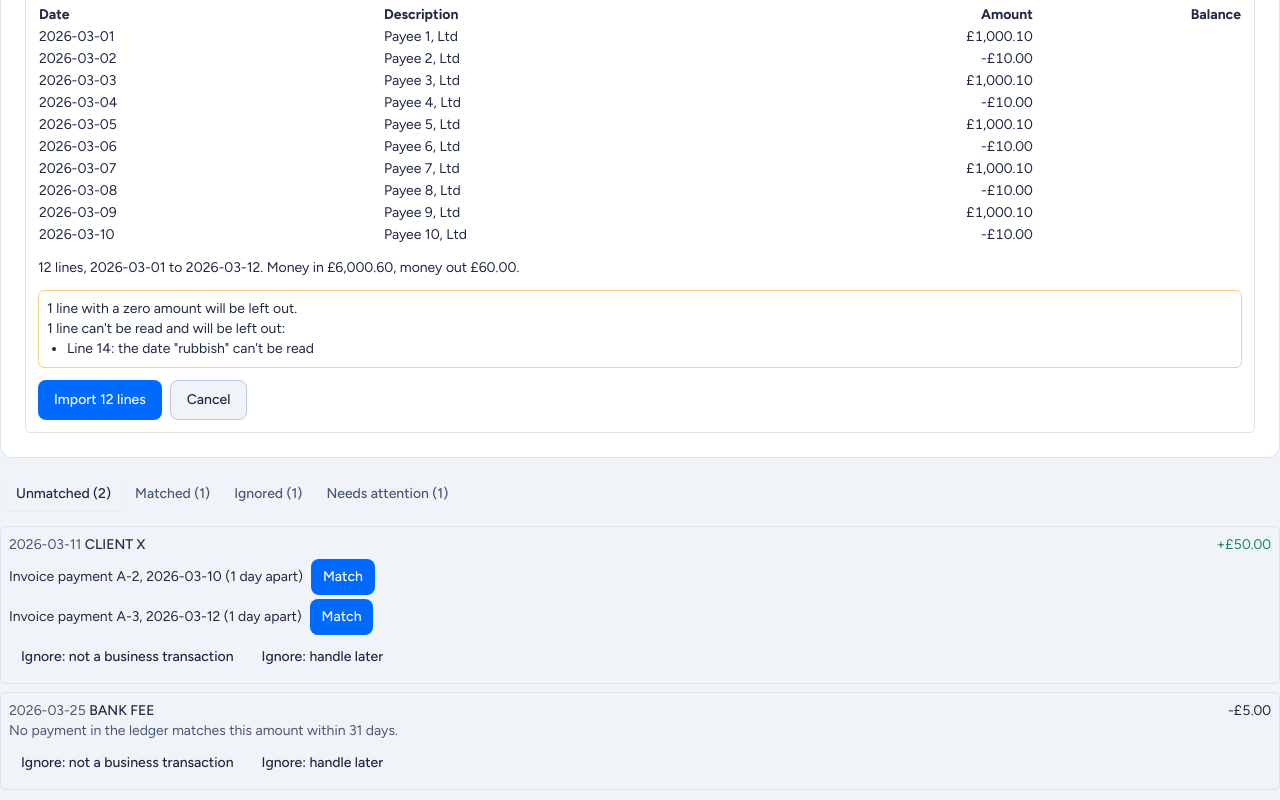
Test case: Bank: import a statement › auto-detects the columns, previews 10 rows with totals and warnings, imports and reports the counts
Earlier steps of the test are not shown.
(page scrolled)
Expected: the table with test id "bank-preview" shows "Payee 1, Ltd", [384,28,458,45]
Expected: the text with test id "bank-totals" reads "12 lines, 2026-03-01 to 2026-03-12. Money in £6,000.60, money out £60.00.", [38,259,519,276]
Click the button "Import 12 lines".
click(100, 400)  # box [38,380,162,420]
(page scrolled)
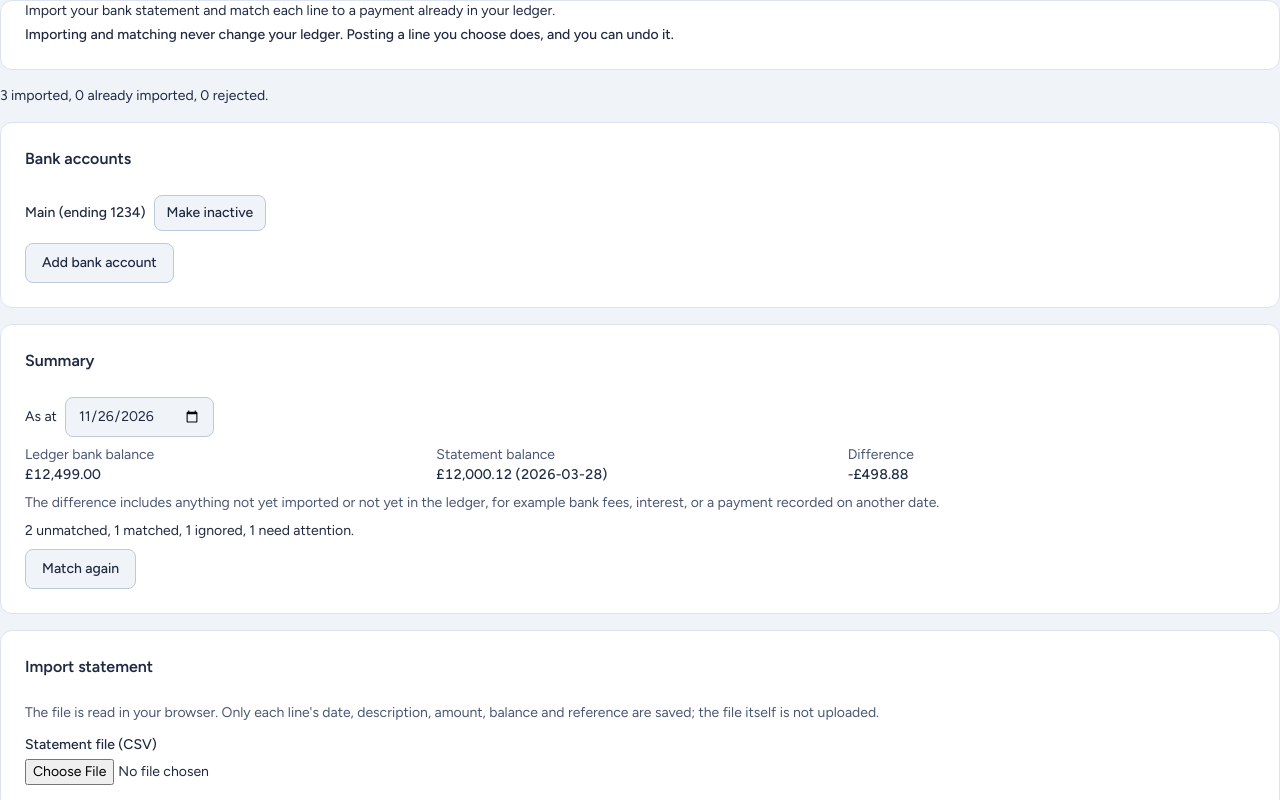
Expected: the message with test id "bank-message" reads "3 imported, 0 already imported, 0 rejected.", [0,87,268,104]
